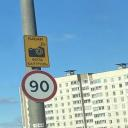speed_limit_90: (20, 70, 57, 102)
